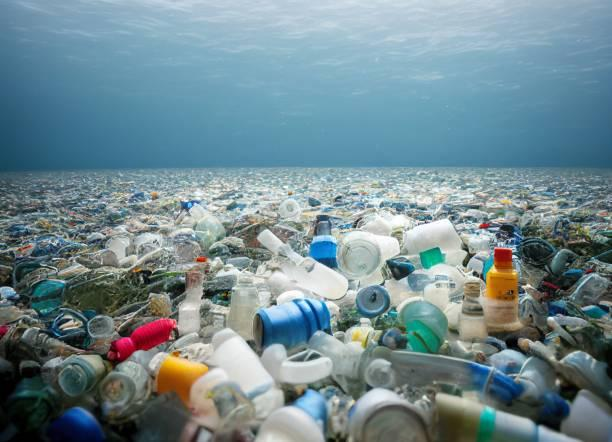HDPE: (211, 327, 275, 397), (253, 298, 333, 351), (155, 354, 208, 411), (487, 245, 521, 302), (354, 283, 390, 319)
